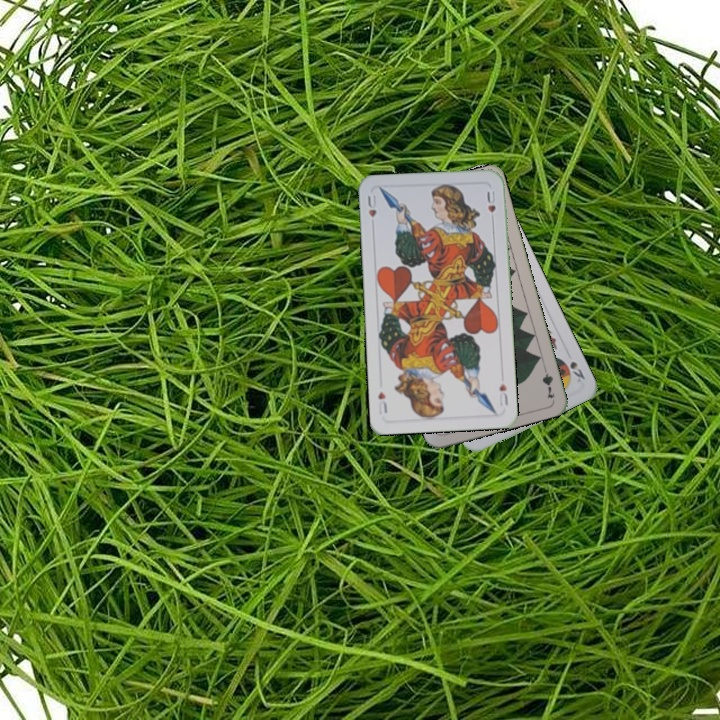G7: (538, 361, 557, 401)
HU: (495, 379, 511, 408), (364, 191, 379, 220)
SK: (566, 357, 588, 385)
